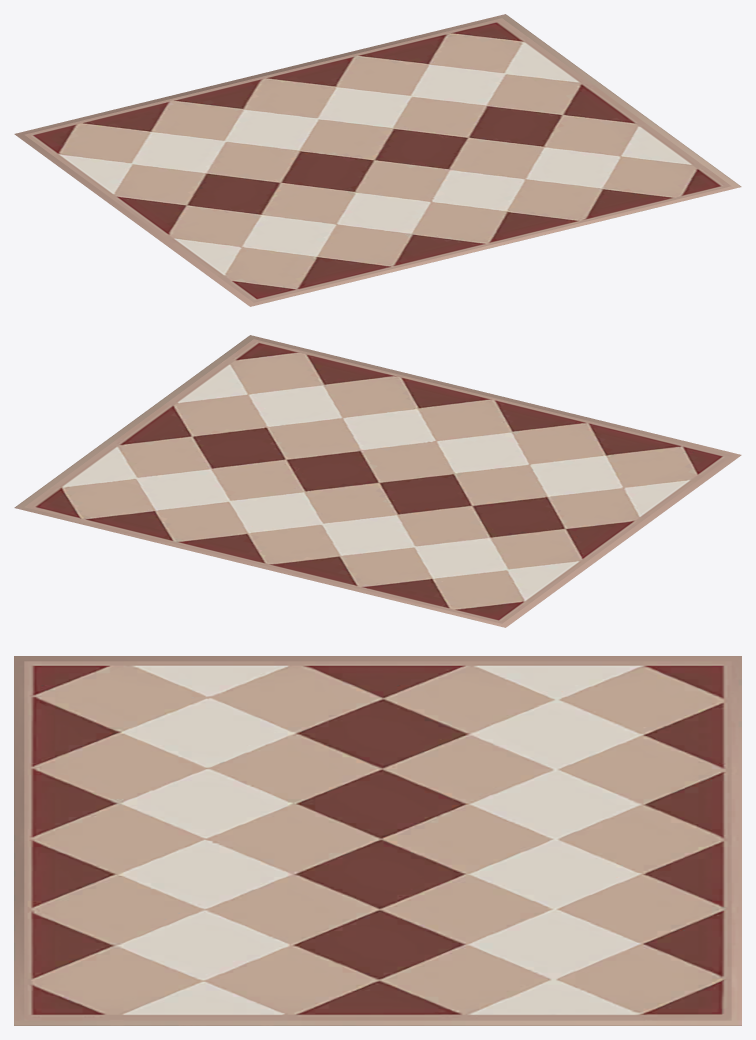
File: my_chocolatecafe_01_p_carpet.glb
3 views of the same model, one above another, from view 1: azimuth 30°, elevation 25°; view 2: azimuth 150°, elevation 25°; view 3: azimuth 270°, elevation 25° (orthographic). The views are drawn at different scales.
Parts seen in each view (by area): view 1: my_chocolatecafe_01_p_carpet; view 2: my_chocolatecafe_01_p_carpet; view 3: my_chocolatecafe_01_p_carpet.
Part boxes in pixels (bbox=[...]): my_chocolatecafe_01_p_carpet: bbox=[14, 14, 741, 306]; my_chocolatecafe_01_p_carpet: bbox=[14, 335, 741, 627]; my_chocolatecafe_01_p_carpet: bbox=[14, 656, 741, 1025].
Size of the model in its own units: 0.028 by 2.14e-07 by 0.0233.
1 material, 1 textured.
